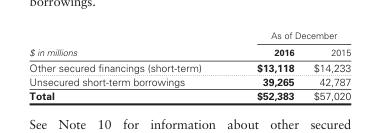table: (28, 29, 350, 101)
table column: (28, 29, 228, 101), (228, 29, 303, 101), (303, 29, 350, 101)
table column header: (28, 29, 350, 58)
table row: (28, 58, 350, 74), (28, 43, 350, 58), (28, 29, 350, 43), (28, 74, 350, 88), (28, 88, 350, 101)
table spanning cell: (28, 29, 228, 58), (228, 29, 350, 43)
